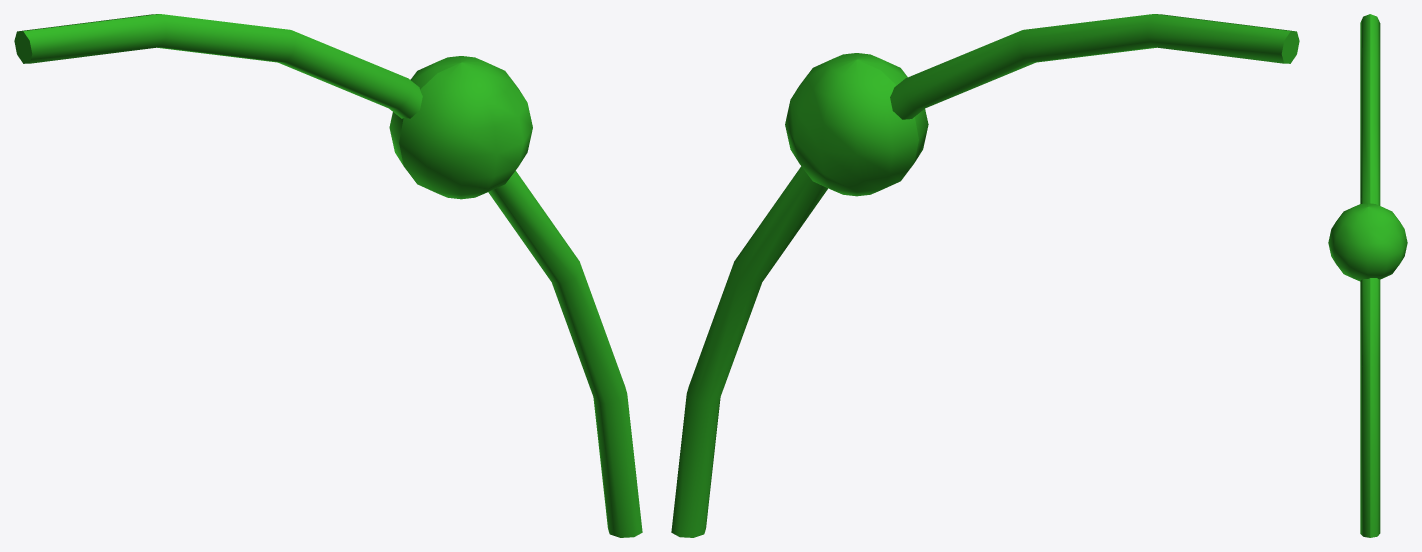
File: rotation_green_merged.glb
3 views of the same model, side by side, from view 1: azimuth 30°, elevation 25°; view 2: azimuth 150°, elevation 25°; view 3: azimuth 270°, elevation 25° (orthographic). The views are drawn at different scales.
Visible parts, largest first — view 1: BendTest.001; view 2: BendTest.001; view 3: BendTest.001.
Part boxes in pixels (x1,y1,x2,y2): BendTest.001: (14,14,642,537); BendTest.001: (671,14,1299,537); BendTest.001: (1328,14,1407,537).
Bounding box in the file's own units: 0.9931 × 0.9931 × 0.2.
